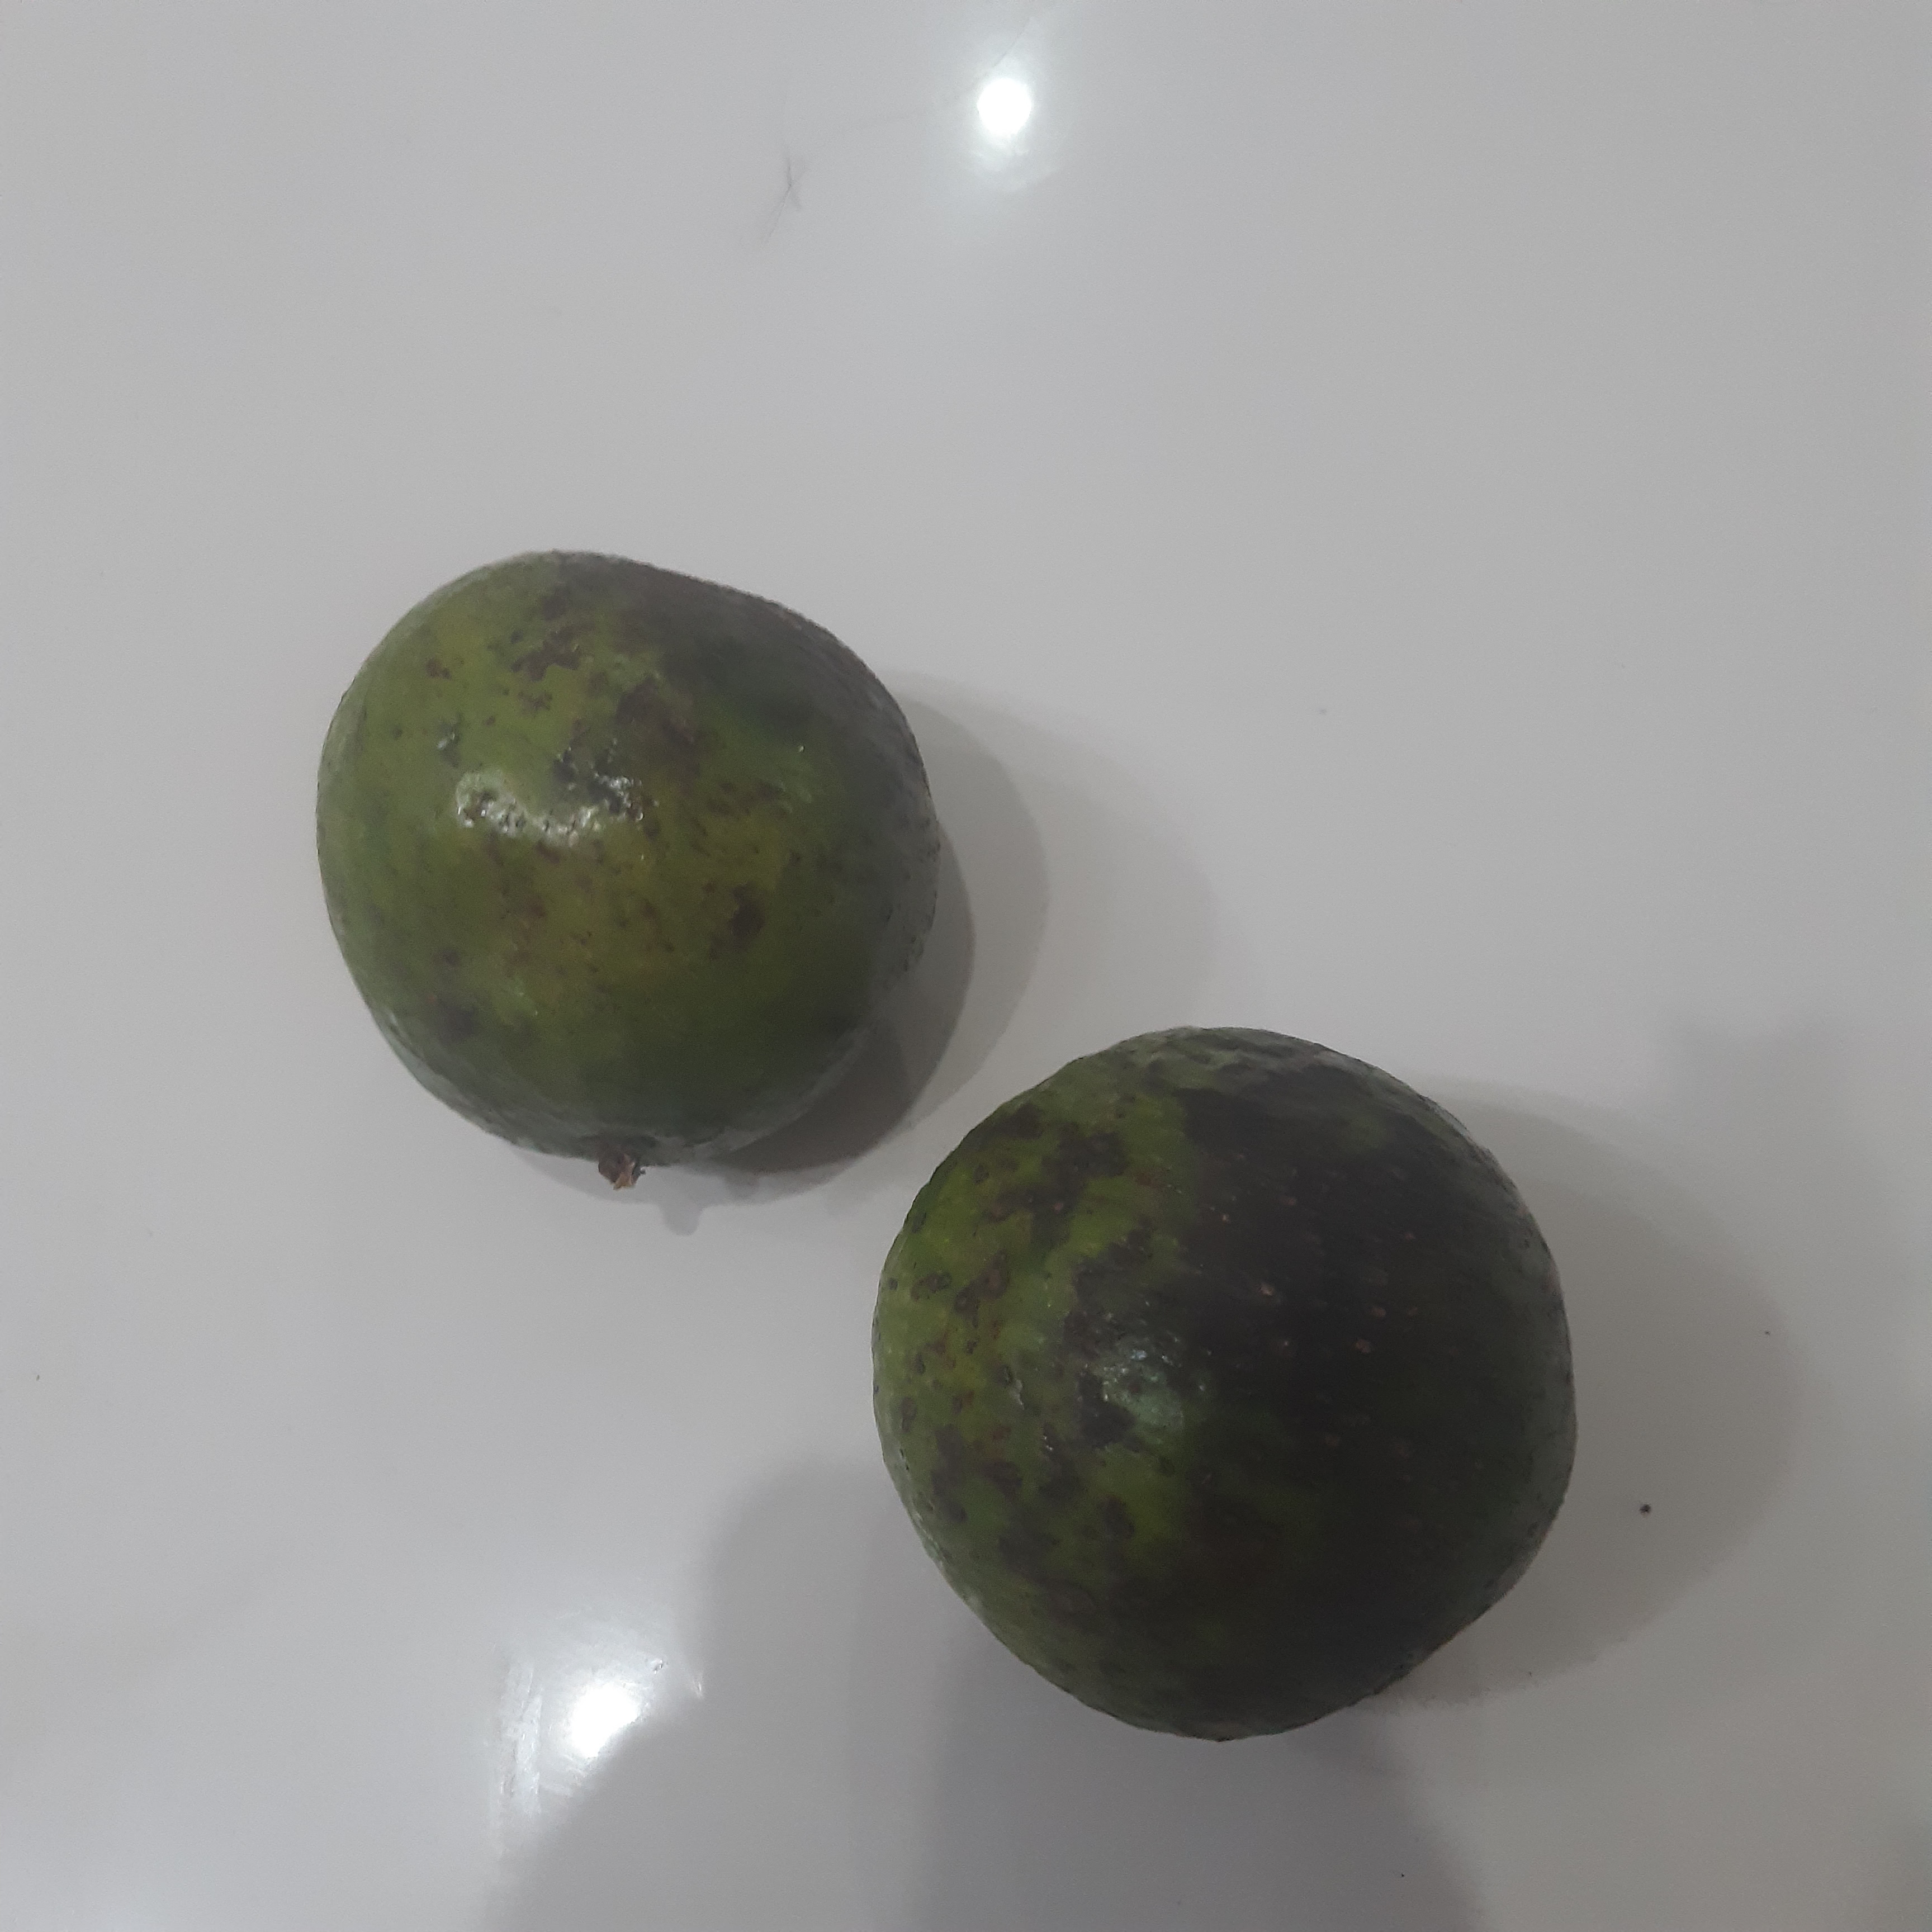Bo: (872, 1026, 1575, 1741), (316, 547, 939, 1167)
